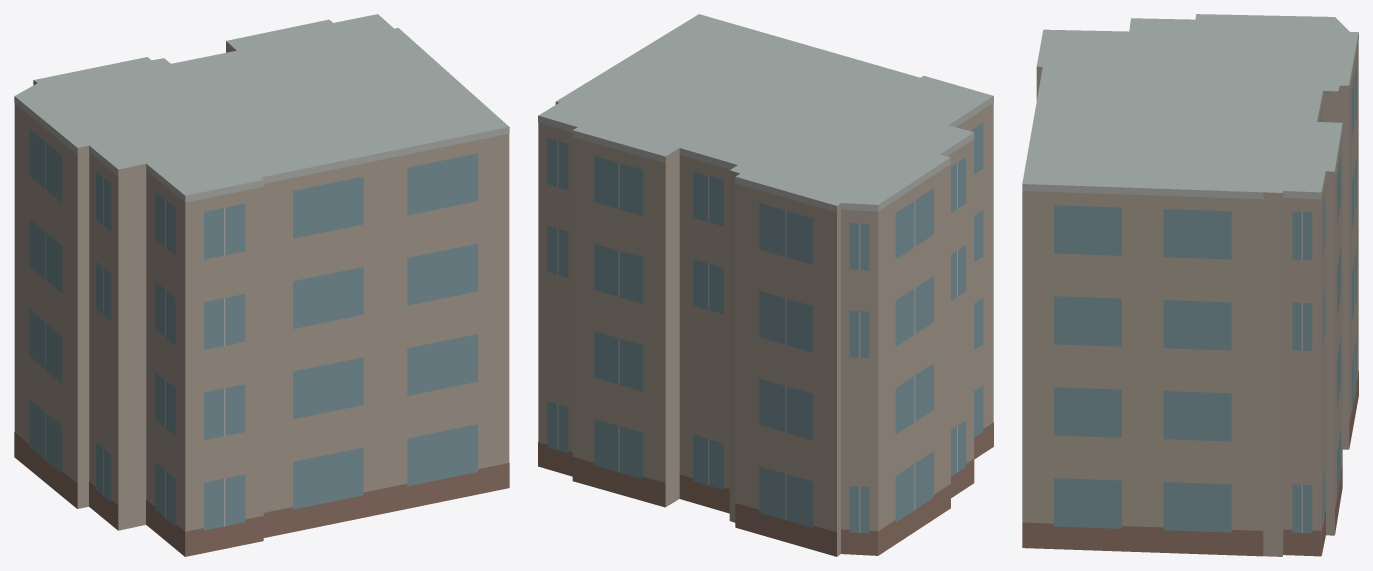
File: survey-upis-32964958.glb
3 renders of one model, left to right at view 1: azimuth 30°, elevation 25°; view 2: azimuth 150°, elevation 25°; view 3: azimuth 270°, elevation 25°, orthographic. The views are drawn at different scales.
Visible parts, largest first — view 1: survey-upis-32964958.tmp; view 2: survey-upis-32964958.tmp; view 3: survey-upis-32964958.tmp.
Boxes of the visible parts, box(x1,y1,x2,y2) form: survey-upis-32964958.tmp: box(14, 14, 509, 556); survey-upis-32964958.tmp: box(538, 14, 993, 556); survey-upis-32964958.tmp: box(1022, 14, 1358, 556).
Size of the model in its own units: 13.55 by 12.85 by 10.78.
